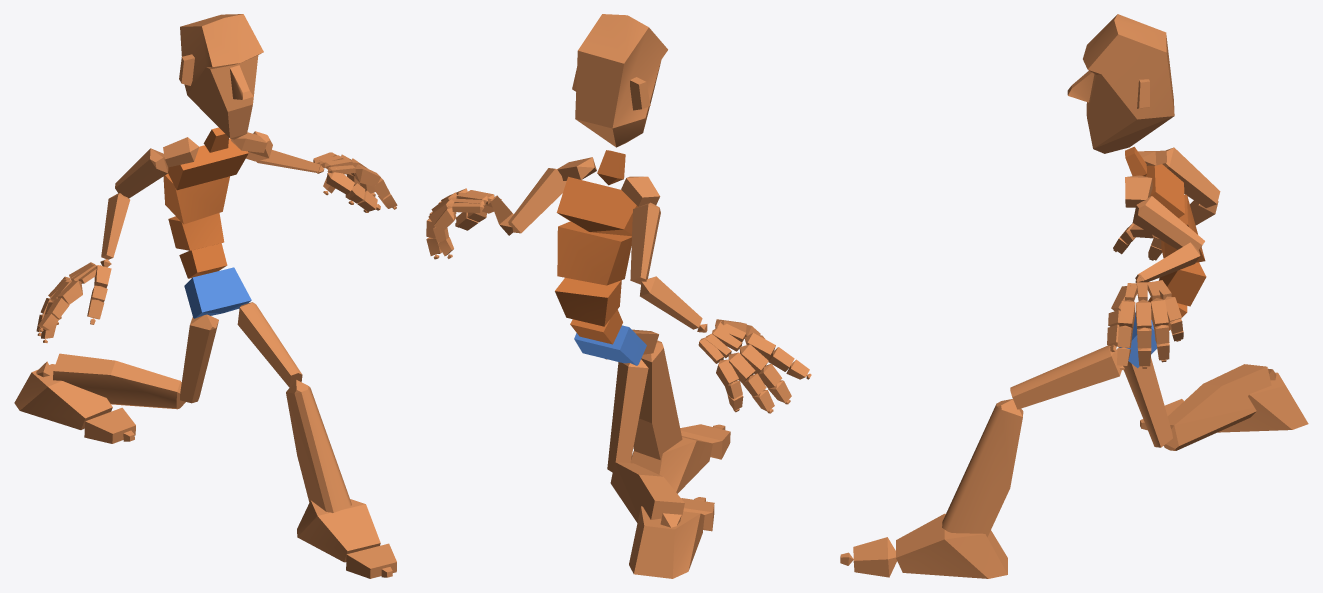
The picture shows the model from 3 angles, left to right: view 1: azimuth 30°, elevation 25°; view 2: azimuth 150°, elevation 25°; view 3: azimuth 270°, elevation 25°; orthographic projection. The views are drawn at different scales.
Visible parts, largest first — view 1: BOPED_Head, BOPED_R_leg, BOPED_L_leg, BOPED_R_foot, BOPED_R_foot01, Bone01, Bone04, Bone05, BOPED_L_legup, BOPED_R_legup, Bone03, BOPED_R_arm_upper (+7 smaller); view 2: BOPED_Head, BOPED_R_foot, Bone04, BOPED_L_leg, Bone05, BOPED_R_legup, BOPED_R_leg, Bone03, BOPED_R_foot01, BOPED_R_arm_upper, BOPED_L_arm_upper, Bone01 (+7 smaller); view 3: BOPED_Head, BOPED_L_leg, BOPED_R_foot01, BOPED_R_leg, BOPED_L_legup, BOPED_R_foot, BOPED_R_legup, BOPED_L_arm_upper, BOPED_R_arm_upper, BOPED_R_foot_toe04, Bone05, Bone03 (+2 smaller).
Boxes of the visible parts, x1,y1,x2,y2 form: BOPED_Head: (179, 14, 263, 139); BOPED_R_leg: (53, 353, 185, 409); BOPED_L_leg: (286, 379, 351, 512); BOPED_R_foot: (14, 364, 112, 429); BOPED_R_foot01: (297, 499, 380, 562); Bone01: (184, 267, 251, 318); Bone04: (163, 173, 229, 224); Bone05: (168, 138, 248, 190); BOPED_L_legup: (237, 302, 302, 387); BOPED_R_legup: (180, 314, 218, 403); Bone03: (168, 213, 224, 250); BOPED_R_arm_upper: (115, 148, 168, 198); BOPED_Head: (572, 14, 667, 147); BOPED_R_foot: (629, 506, 704, 578); Bone04: (557, 221, 631, 285); BOPED_L_leg: (633, 340, 682, 459); Bone05: (556, 176, 638, 236); BOPED_R_legup: (607, 359, 648, 472); BOPED_R_leg: (610, 462, 684, 522); Bone03: (555, 277, 621, 326); BOPED_R_foot01: (630, 436, 712, 493); BOPED_R_arm_upper: (630, 202, 660, 284); BOPED_L_arm_upper: (508, 168, 566, 233); Bone01: (574, 325, 646, 365); BOPED_Head: (1067, 14, 1174, 153); BOPED_L_leg: (942, 399, 1023, 537); BOPED_R_foot01: (896, 513, 1007, 578); BOPED_R_leg: (1164, 364, 1271, 450); BOPED_L_legup: (1010, 345, 1122, 409); BOPED_R_foot: (1217, 372, 1308, 432); BOPED_R_legup: (1117, 347, 1172, 447); BOPED_L_arm_upper: (1132, 196, 1204, 250); BOPED_R_arm_upper: (1162, 147, 1220, 207); BOPED_R_foot_toe04: (853, 537, 896, 577); Bone05: (1146, 164, 1184, 218); Bone03: (1159, 262, 1206, 306).
Size of the model in its own units: 130 by 170 by 138.
